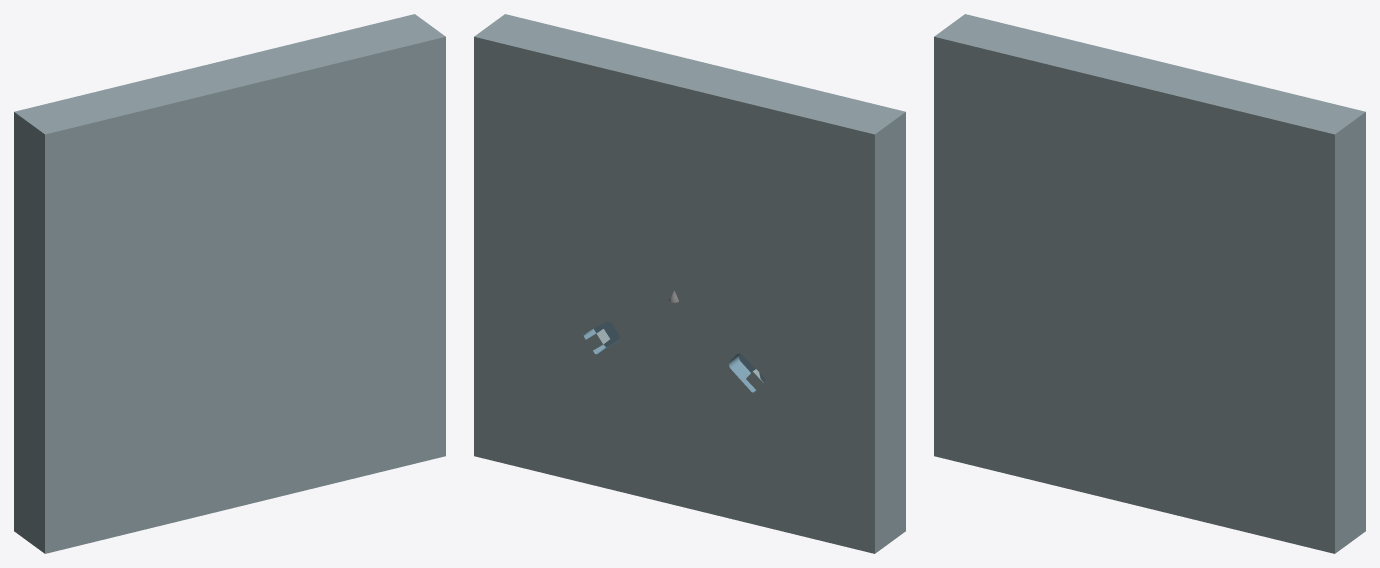
Rendered from teste.obj.
The picture shows the model from 3 angles, left to right: view 1: azimuth 30°, elevation 25°; view 2: azimuth 150°, elevation 25°; view 3: azimuth 330°, elevation 25°; orthographic projection.
Visible parts, largest first — view 1: polySurface1 ESTUDO_PAINEL_TR3; view 2: polySurface1 ESTUDO_PAINEL_TR3, ESTUDO_PAINEL_TR3 polySurface2; view 3: polySurface1 ESTUDO_PAINEL_TR3.
Part boxes in pixels (<box>): polySurface1 ESTUDO_PAINEL_TR3: <box>14,14,445,553</box>; polySurface1 ESTUDO_PAINEL_TR3: <box>474,14,905,553</box>; ESTUDO_PAINEL_TR3 polySurface2: <box>583,321,765,392</box>; polySurface1 ESTUDO_PAINEL_TR3: <box>934,14,1365,553</box>.
Bounding box in the file's own units: 82 × 82 × 12.
